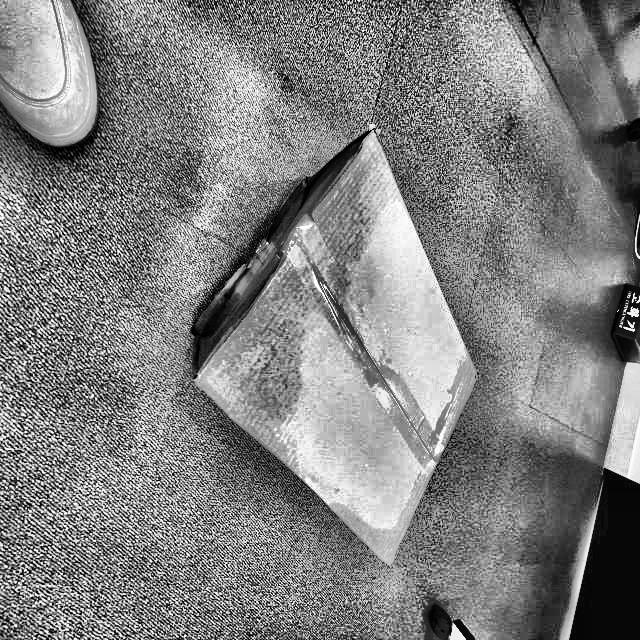box: (188, 121, 482, 568)
wet: (191, 263, 317, 438), (313, 127, 399, 285)
